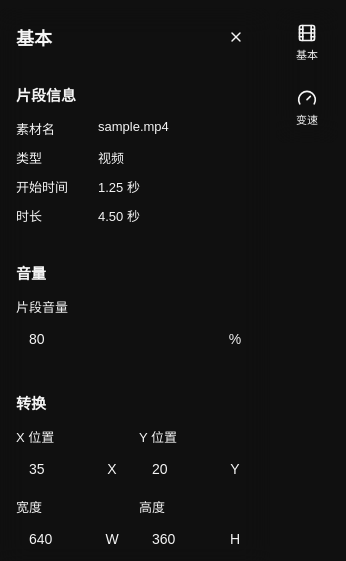
Test case: FloatingInspector › switches sections and restores the selected clip properties
Click the button "变速". click: (307,108)
box: [281,78,333,138]
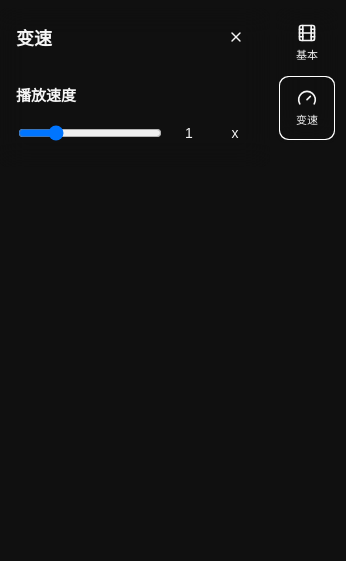
expect the heading "变速" is shown: met, box [16,24,52,50]
expect the slider named "播放速度滑块" holds "1": met, box [18,124,162,142]
expect the number field named "播放速度" holds "1": met, box [173,118,219,148]
Click the button "基本". click: (307,43)
box: [281,13,333,73]
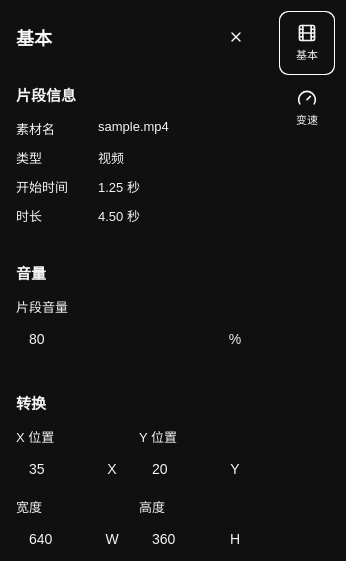
expect the text "sample.mp4" is shown: met, box [98,119,169,134]
